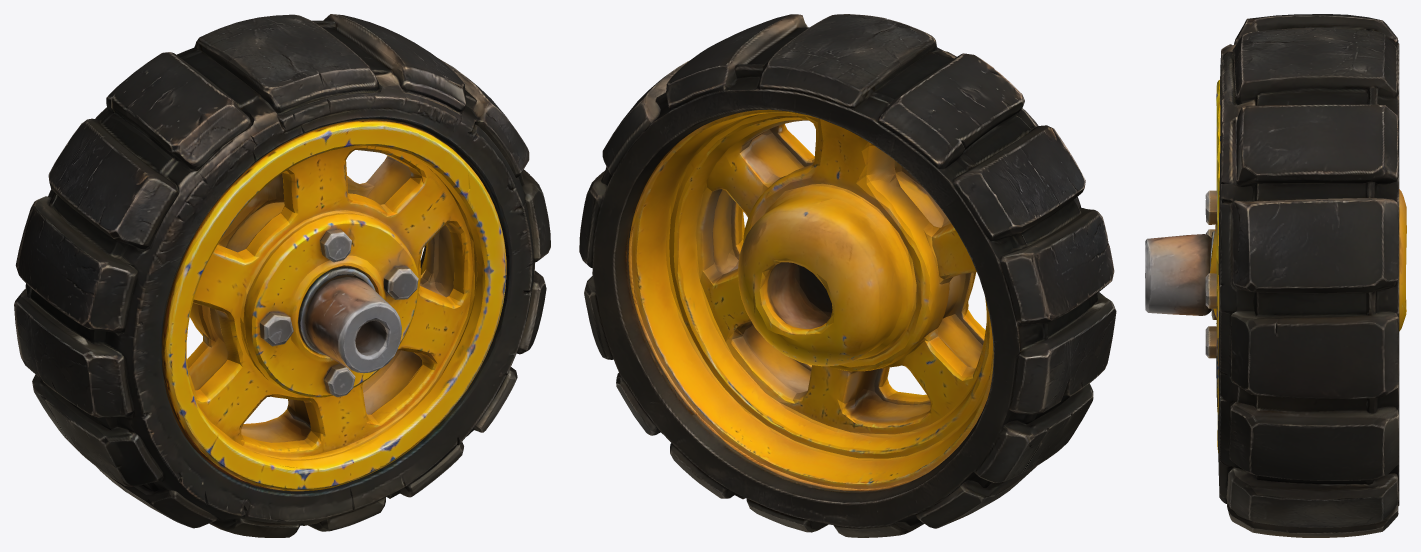
File: base_basic_pbr.glb
The picture shows the model from 3 angles, left to right: view 1: azimuth 30°, elevation 25°; view 2: azimuth 150°, elevation 25°; view 3: azimuth 270°, elevation 25°; orthographic projection. The views are drawn at different scales.
Visible parts, largest first — view 1: model; view 2: model; view 3: model.
Part boxes in pixels (x1,y1,x2,y2): model: (14, 14, 550, 537); model: (579, 14, 1116, 537); model: (1145, 14, 1406, 537).
Size of the model in its own units: 1.9 by 1.8 by 0.9311.
1 material, 1 textured.
